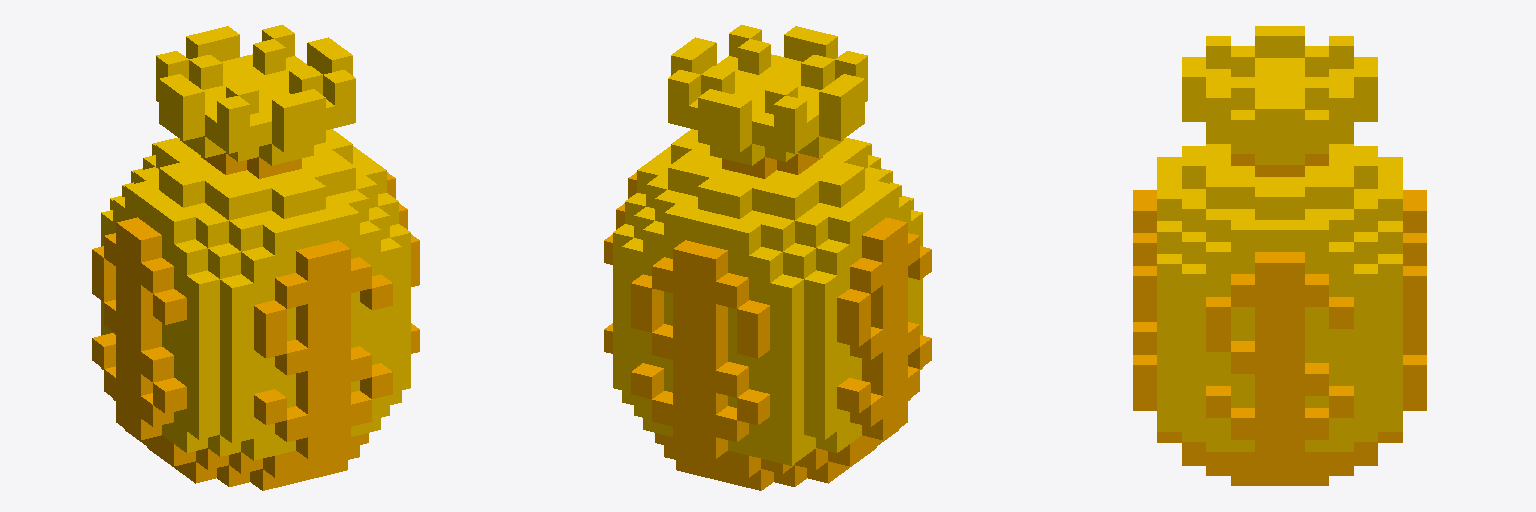
3 views of the same model, side by side, from view 1: azimuth 30°, elevation 25°; view 2: azimuth 150°, elevation 25°; view 3: azimuth 270°, elevation 25° (orthographic).
Bounding box in the file's own units: 36 × 51 × 36.
1 materials, 1 textured.